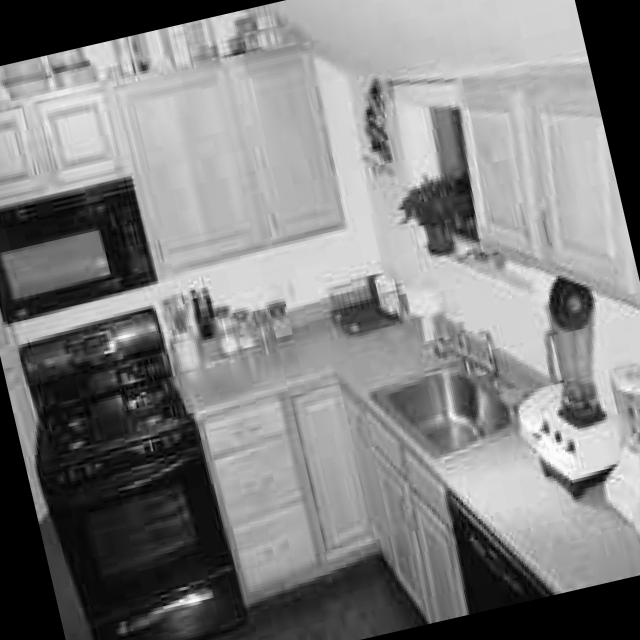2036: (169, 294, 640, 592)
blender: (519, 279, 616, 503)
ceiling beam: (248, 0, 585, 76)
cupboard crop: (108, 45, 346, 274), (459, 74, 637, 307), (199, 380, 377, 604), (338, 379, 470, 613), (0, 79, 127, 206)
electrical appliance: (450, 487, 547, 608)
extractor hood: (0, 173, 153, 319)
faucet handle: (469, 327, 500, 378)
flask crop: (210, 302, 236, 353), (250, 311, 274, 350)
floor -X: (39, 395, 640, 640)
food processor: (601, 357, 640, 535)
plant -x: (399, 172, 471, 245)
sink basin: (377, 352, 513, 454)
stove burner: (16, 305, 247, 640)
wall clock: (0, 9, 417, 517), (350, 67, 640, 524)
